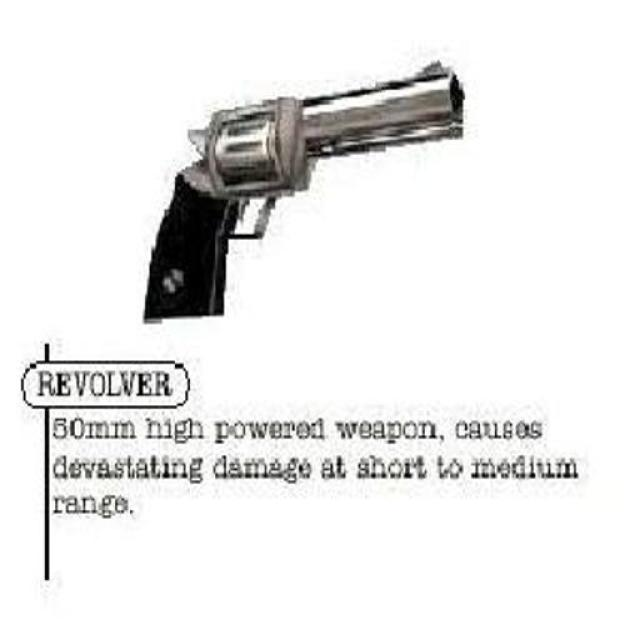pistol: (142, 59, 466, 320)
